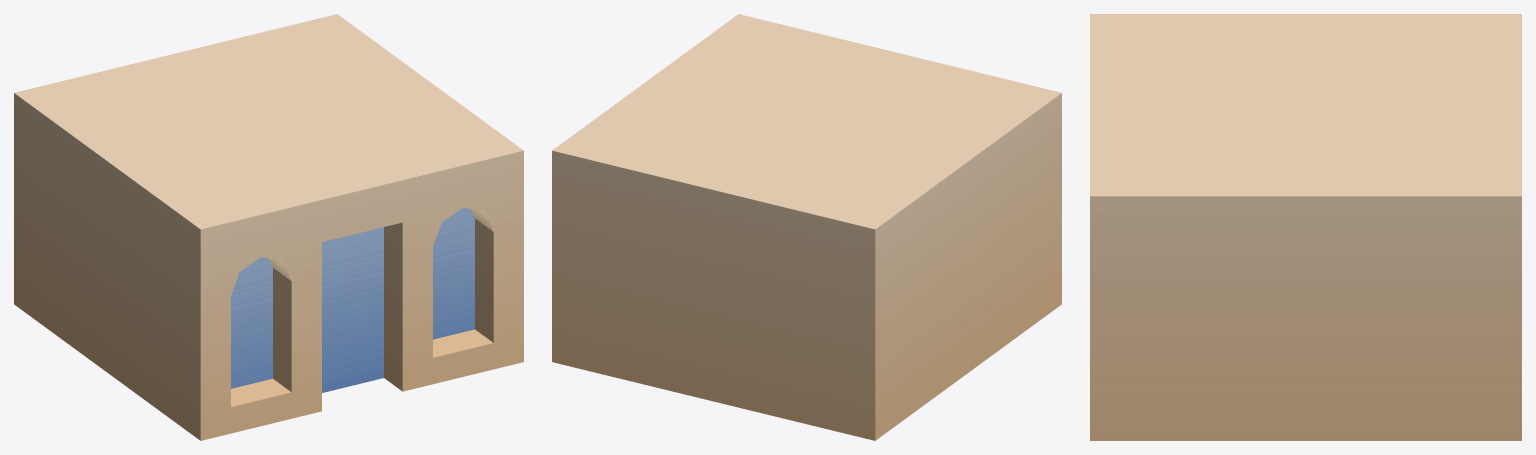
3 renders of one model, left to right at view 1: azimuth 30°, elevation 25°; view 2: azimuth 150°, elevation 25°; view 3: azimuth 270°, elevation 25°, orthographic. The views are drawn at different scales.
Parts seen in each view (by area): view 1: building-window-door-window-round; view 2: building-window-door-window-round; view 3: building-window-door-window-round.
Part boxes in pixels (left/top/right/bottom): building-window-door-window-round: left=14, top=14, right=523, bottom=440; building-window-door-window-round: left=552, top=14, right=1061, bottom=440; building-window-door-window-round: left=1090, top=14, right=1521, bottom=440.
Size of the model in its own units: 1 by 0.625 by 1.
1 material, 1 textured.
